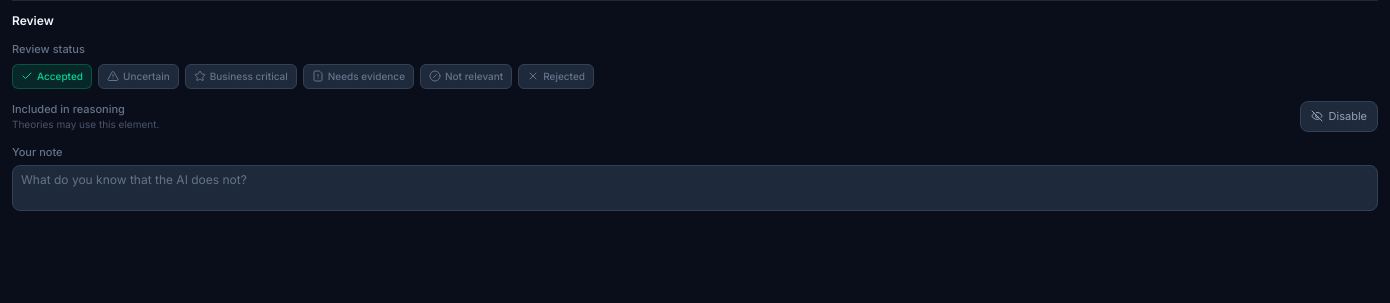
Test: ReviewControls destructive confirmation › asks for confirmation before rejecting
The image size is (1390, 303).
Click the button "Rejected": x=556, y=76 [518, 64, 594, 88]
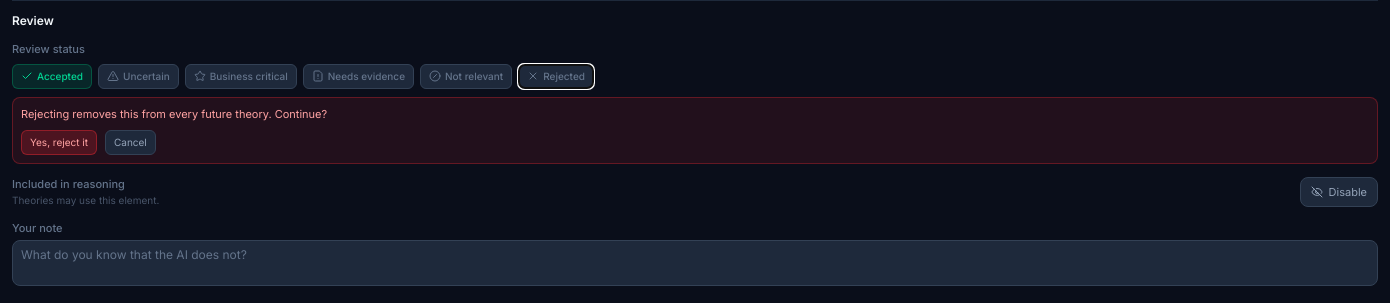
Expected: the text "Rejecting removes this from every future theory. Continue?" is shown, [21, 106, 327, 120]
